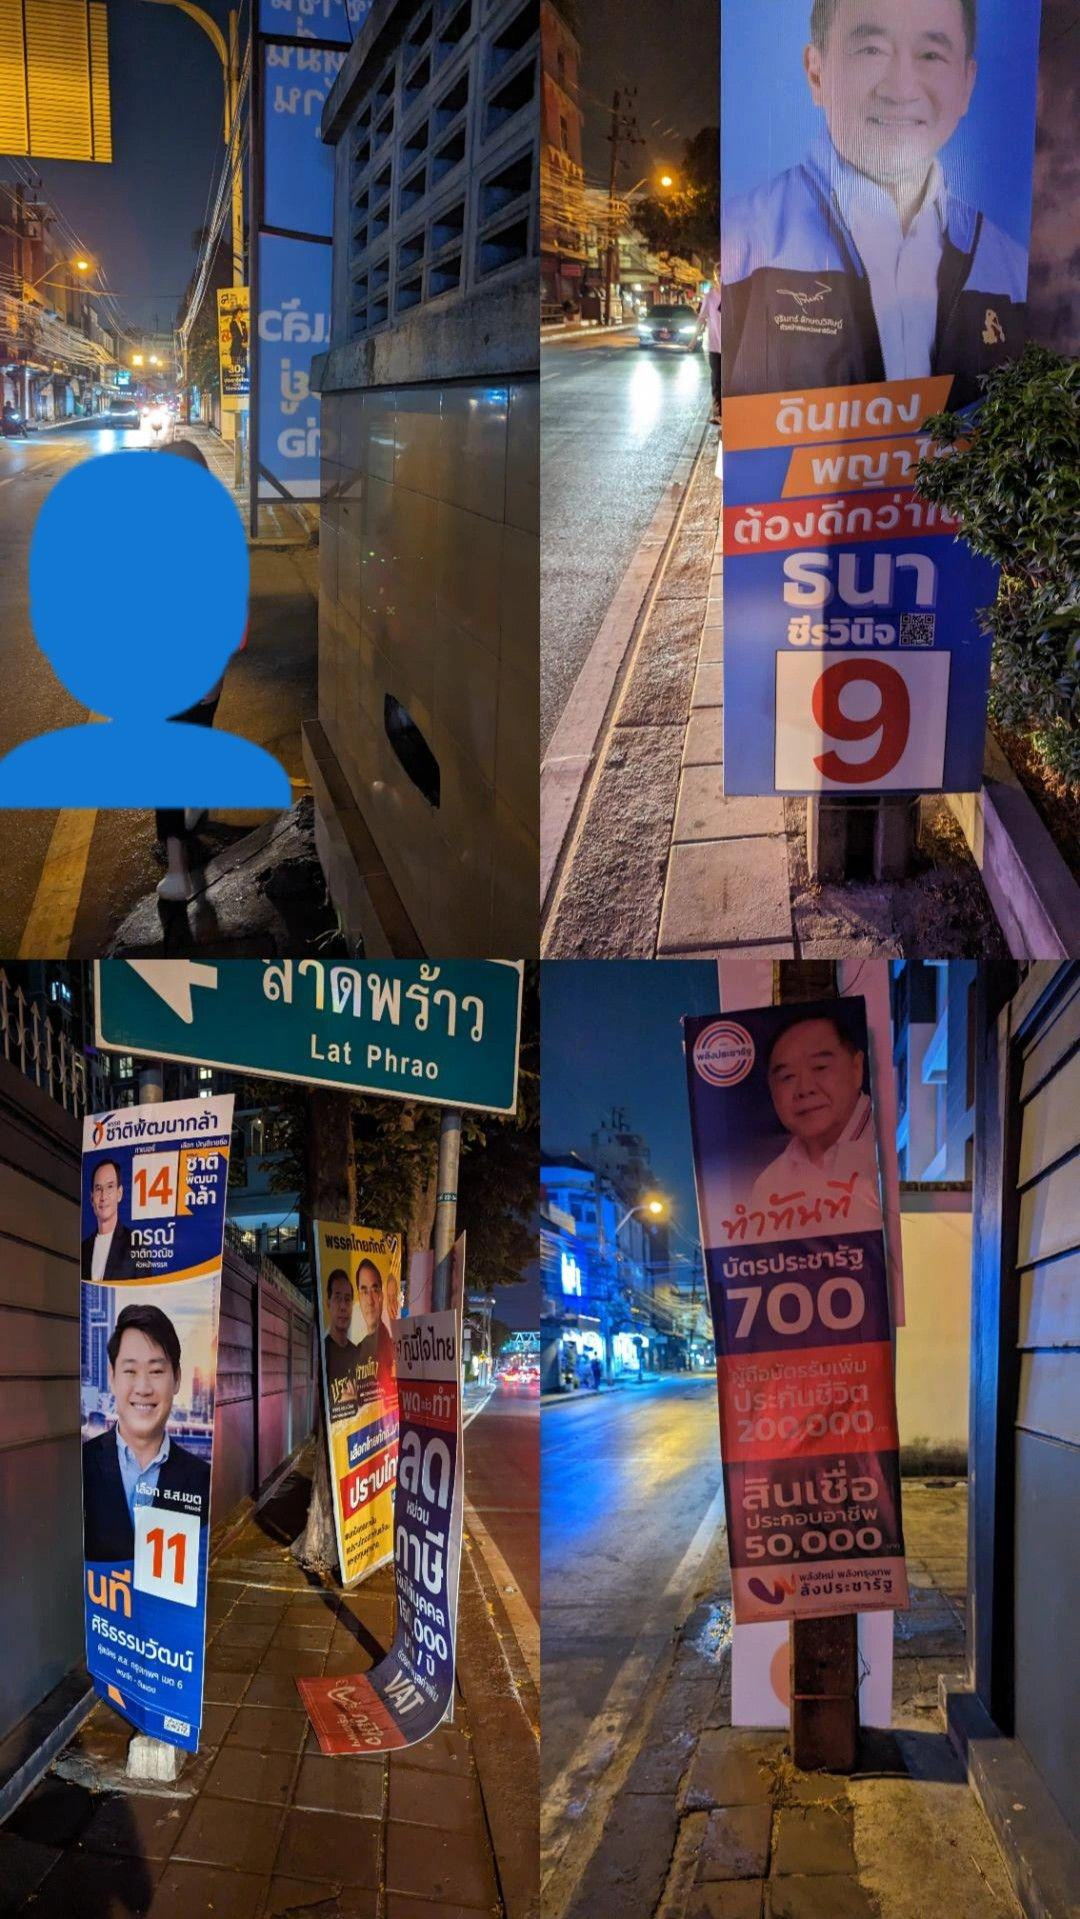Banner: (720, 0, 1002, 793), (669, 996, 903, 1665), (73, 1099, 216, 1781), (318, 1222, 414, 1595)
